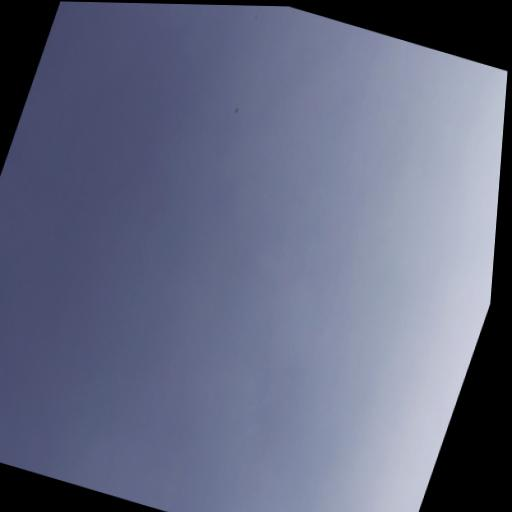drones: (233, 105, 240, 114)
